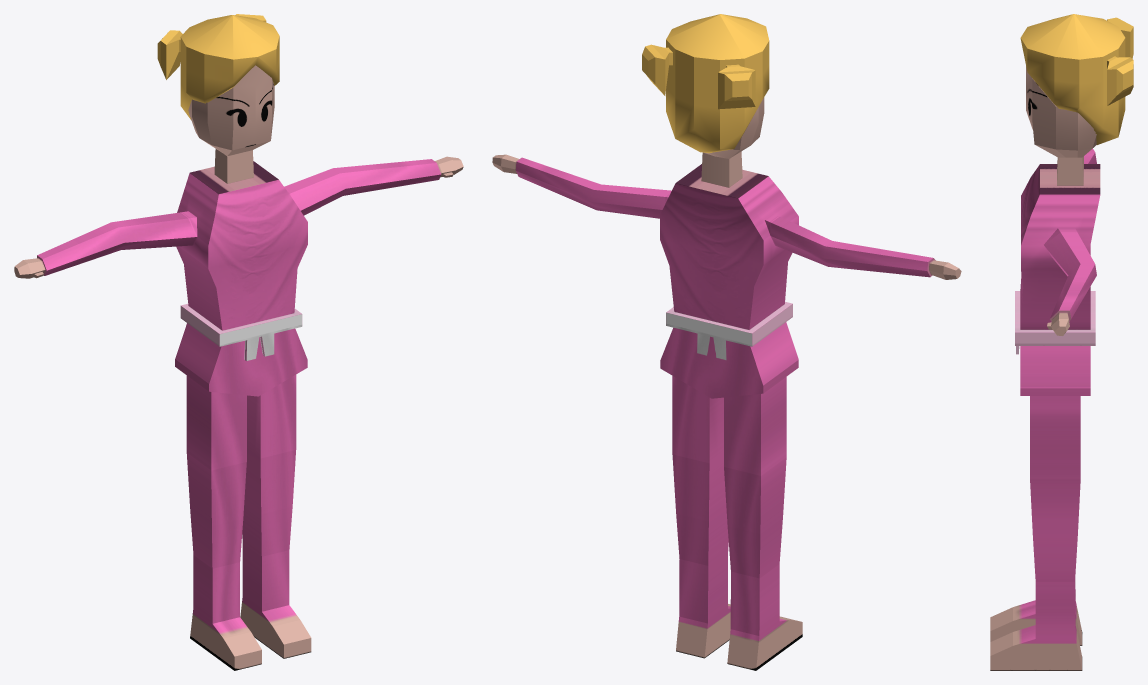
Rendered from Susie_Text.fbx.
The picture shows the model from 3 angles, left to right: view 1: azimuth 30°, elevation 25°; view 2: azimuth 150°, elevation 25°; view 3: azimuth 270°, elevation 25°; orthographic projection. The views are drawn at different scales.
Parts seen in each view (by area): view 1: polySurface1, polySurface2; view 2: polySurface1, polySurface2; view 3: polySurface1, polySurface2.
Part boxes in pixels (bbox=[...]): polySurface1: bbox=[14, 65, 463, 670]; polySurface2: bbox=[157, 14, 279, 119]; polySurface1: bbox=[492, 97, 961, 670]; polySurface2: bbox=[642, 14, 769, 153]; polySurface1: bbox=[990, 66, 1100, 670]; polySurface2: bbox=[1020, 14, 1133, 144].
Size of the model in its own units: 93.55 by 124 by 25.36.
